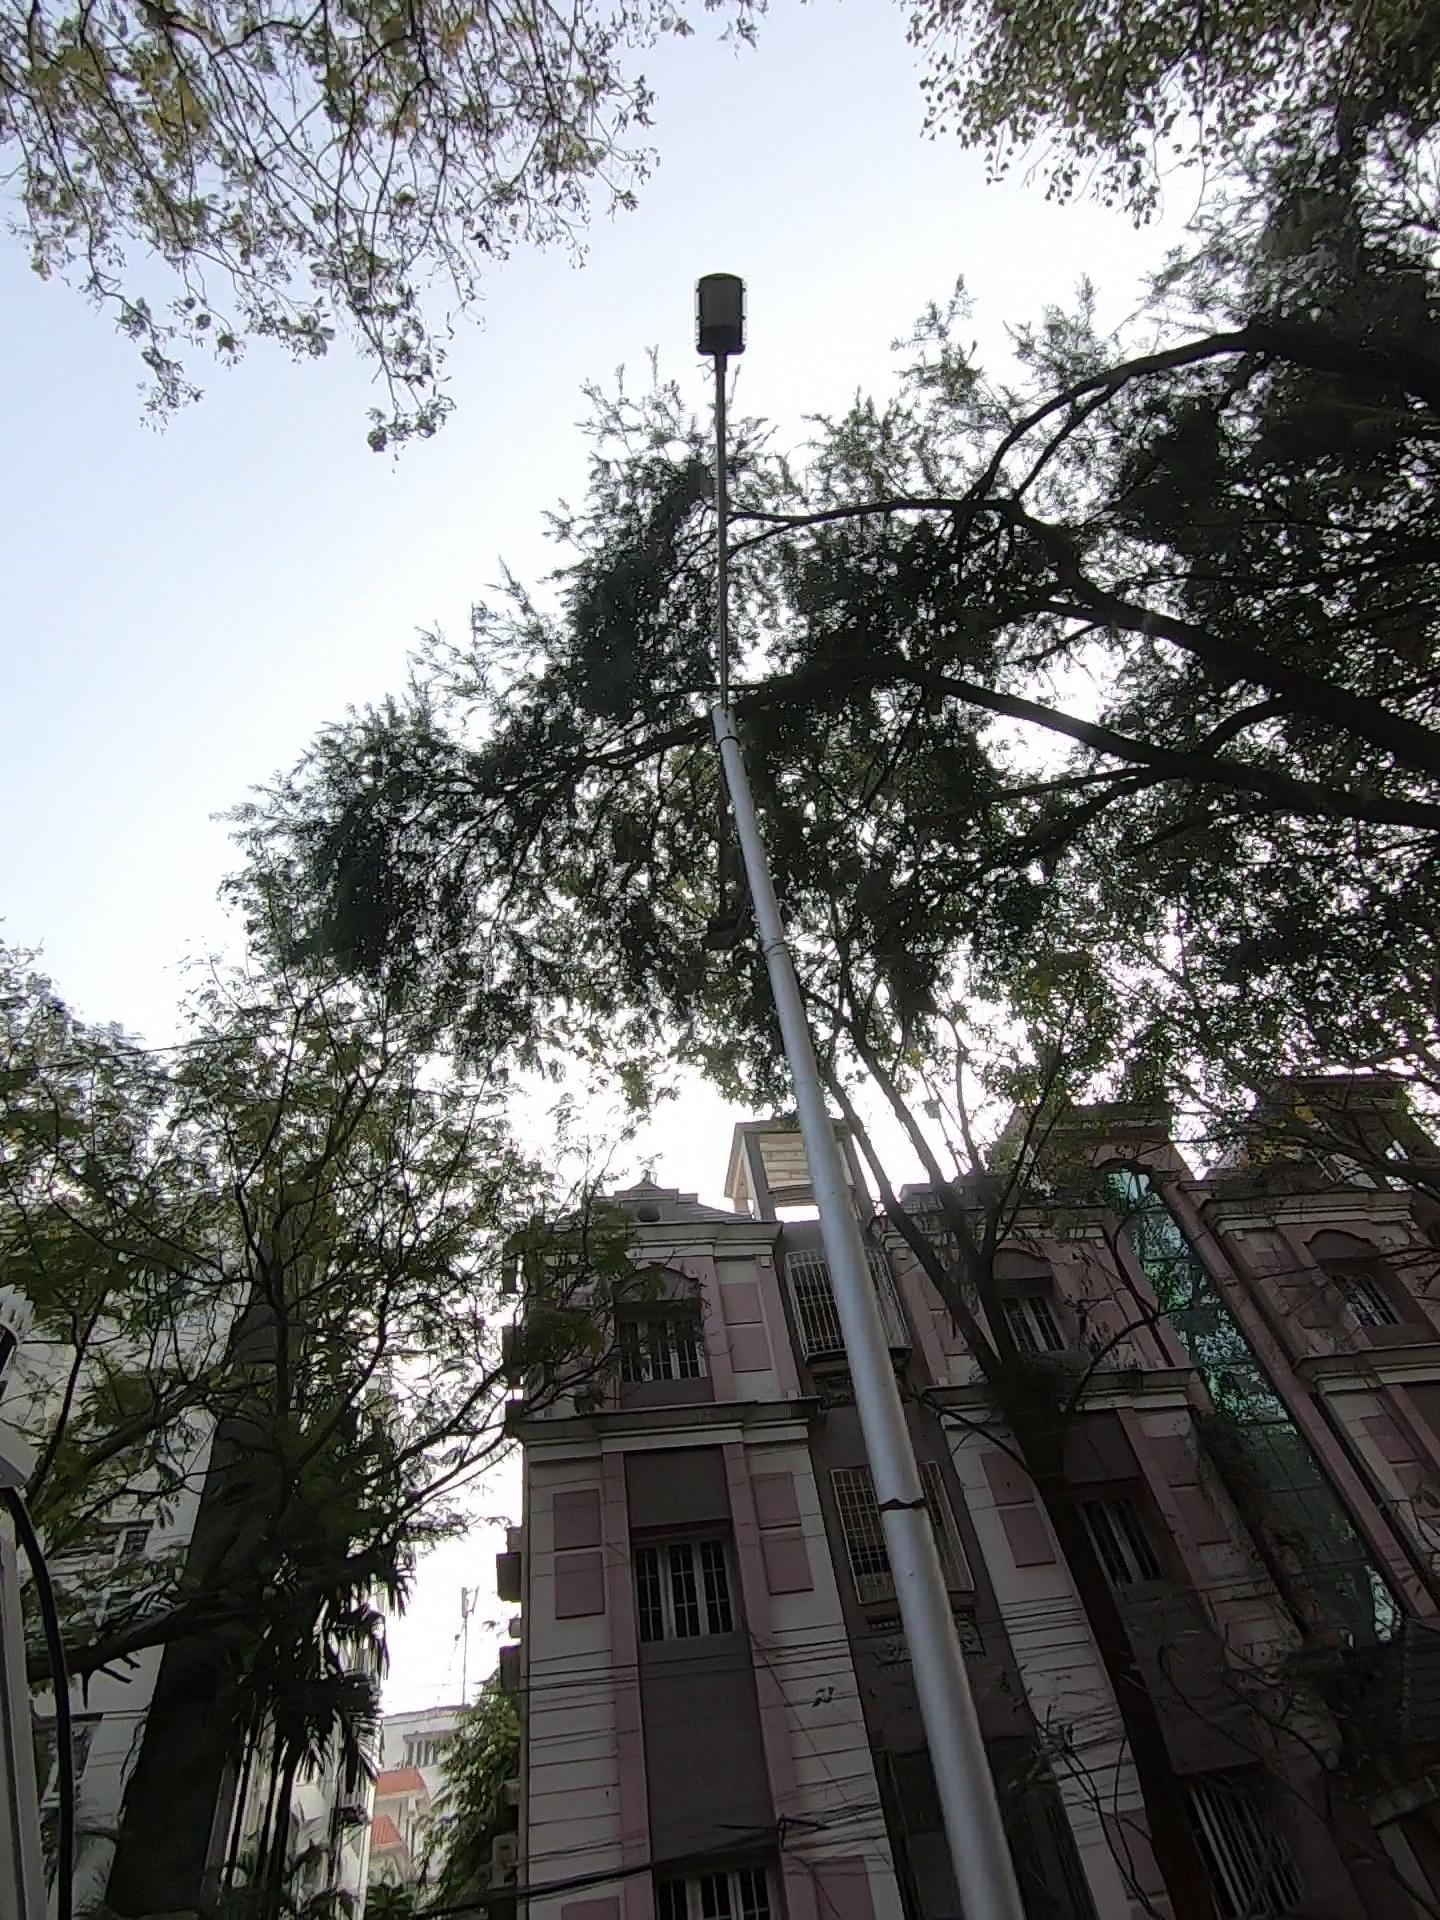off: (635, 251, 788, 667)
